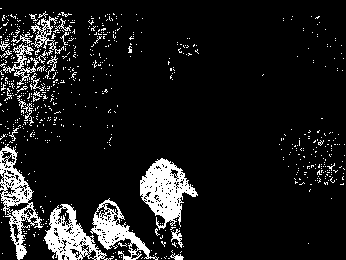person: (141, 156, 196, 260), (1, 146, 39, 258)
